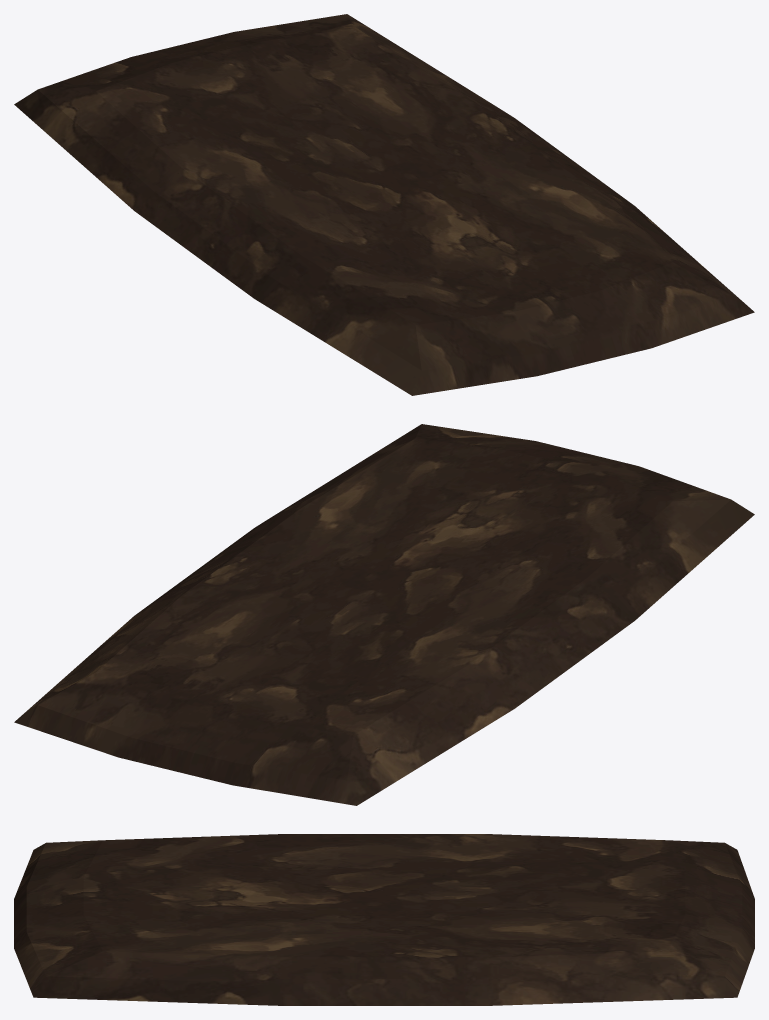
File: grave.glb
The picture shows the model from 3 angles, top to bottom: view 1: azimuth 30°, elevation 25°; view 2: azimuth 150°, elevation 25°; view 3: azimuth 270°, elevation 25°; orthographic projection. The views are drawn at different scales.
Parts seen in each view (by area): view 1: soil; view 2: soil; view 3: soil.
Boxes of the visible parts, <box> form: soil: <box>14,14,754,395</box>; soil: <box>14,424,754,805</box>; soil: <box>14,834,754,1005</box>.
Size of what is drawn, in the model's own units: 0.1787 by 0.0142 by 0.3409.
1 material, 1 textured.
